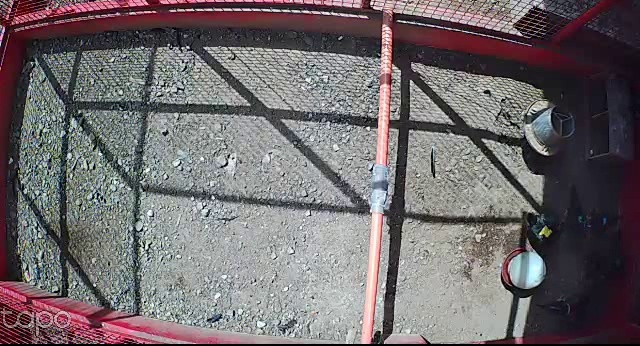Chicken: (524, 211, 571, 257)
Drinker: (501, 249, 547, 289)
Feeder: (523, 97, 577, 158)
Saddle_Color_Yellow: (539, 223, 555, 236)
